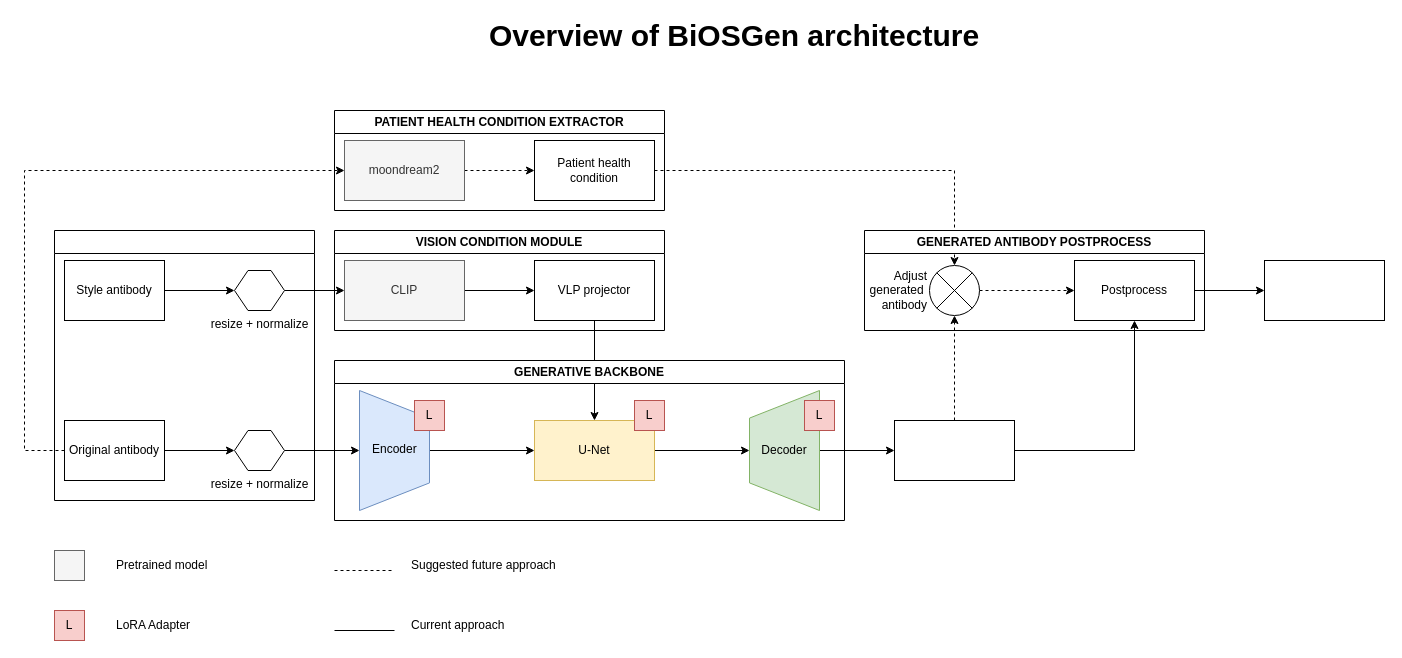
Image size: 1402x658. Some labels were removed from this diagram. Here are the shapes that lost their labels. From the top down, the centre of each, then its label:
pixel 1324 290: Final result
pixel 184 365: PREPROCESSING
pixel 954 450: Generated antibody
